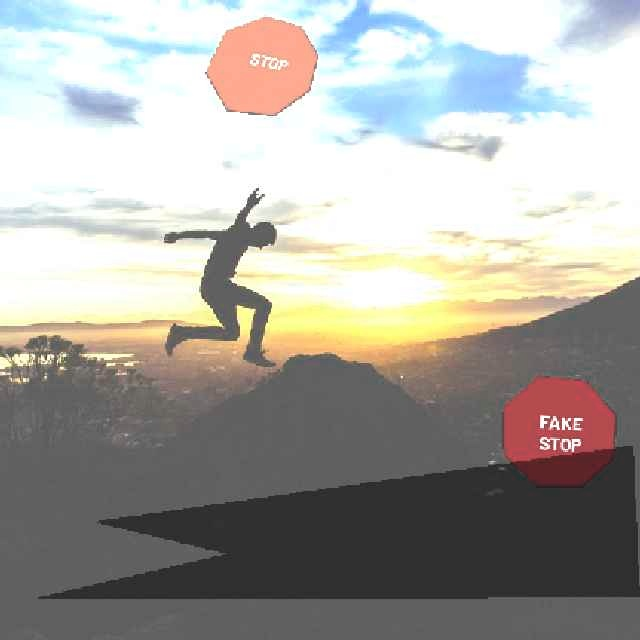FAKE_STOP: (501, 374, 615, 486)
STOP: (203, 14, 317, 115)
